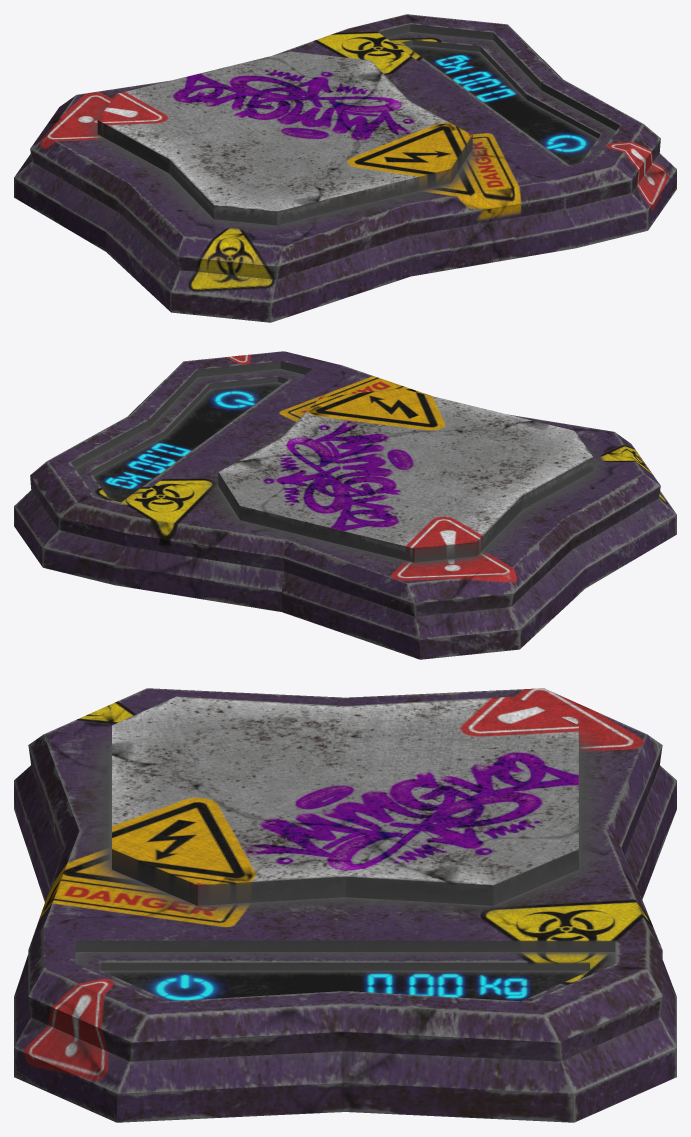
Rendered from Bascula.glb.
The picture shows the model from 3 angles, top to bottom: view 1: azimuth 30°, elevation 25°; view 2: azimuth 150°, elevation 25°; view 3: azimuth 270°, elevation 25°; orthographic projection. The views are drawn at different scales.
Parts seen in each view (by area): view 1: Bascula; view 2: Bascula; view 3: Bascula.
Boxes of the visible parts, x1,y1,x2,y2 form: Bascula: (14,14,676,322); Bascula: (14,351,676,659); Bascula: (14,688,676,1122).
Size of the model in its own units: 0.2119 by 0.0308 by 0.1654.
1 material, 1 textured.
